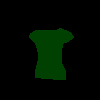t-shirt: (28, 27, 74, 80)
